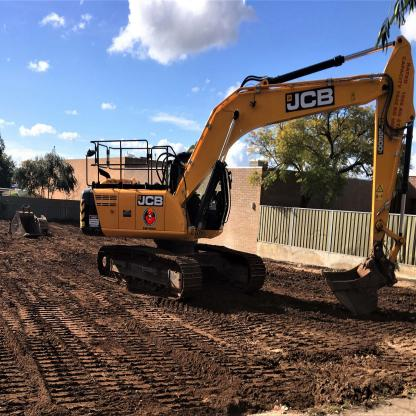excavator: (80, 25, 416, 353)
